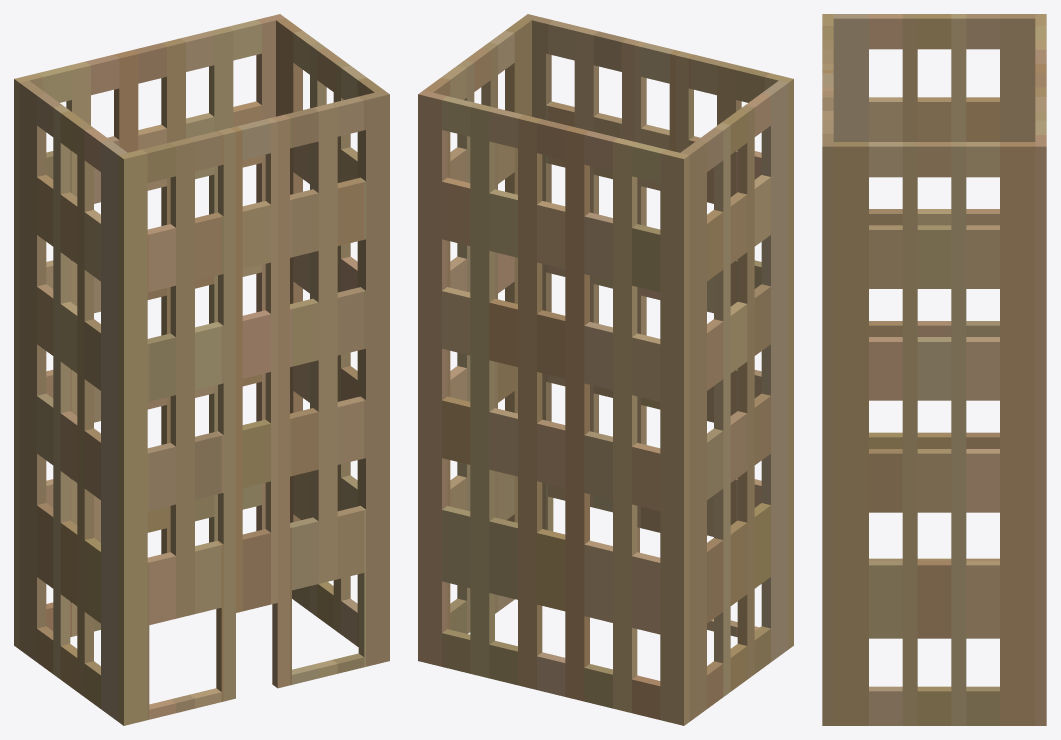
Rendered from Apartment_Cream_Walls.glb.
3 views of the same model, side by side, from view 1: azimuth 30°, elevation 25°; view 2: azimuth 150°, elevation 25°; view 3: azimuth 270°, elevation 25° (orthographic). The views are drawn at different scales.
Visible parts, largest first — view 1: Apartment_Cream_Walls; view 2: Apartment_Cream_Walls; view 3: Apartment_Cream_Walls.
Part boxes in pixels (x1,y1,x2,y2): Apartment_Cream_Walls: [14, 14, 389, 725]; Apartment_Cream_Walls: [418, 14, 793, 725]; Apartment_Cream_Walls: [822, 14, 1046, 725].
Bounding box in the file's own units: 28 × 57 × 20.
